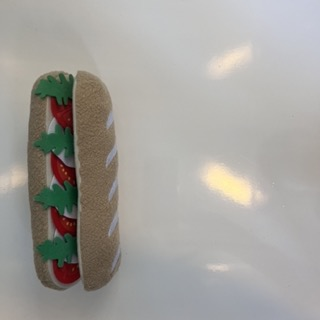sandwich: (26, 70, 122, 292)
